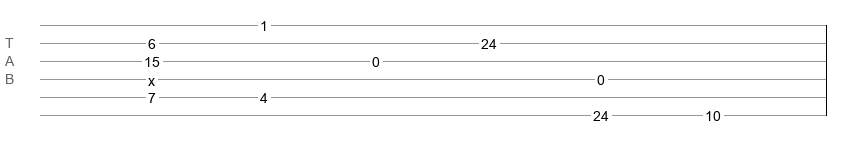0: (372, 54, 380, 64), (597, 72, 605, 82)
1: (260, 18, 268, 28)
10: (705, 108, 721, 118)
15: (144, 54, 160, 64)
24: (481, 36, 497, 46), (593, 108, 609, 118)
4: (260, 90, 268, 100)
6: (148, 36, 156, 46)
7: (148, 90, 156, 100)
x: (148, 73, 155, 81)
